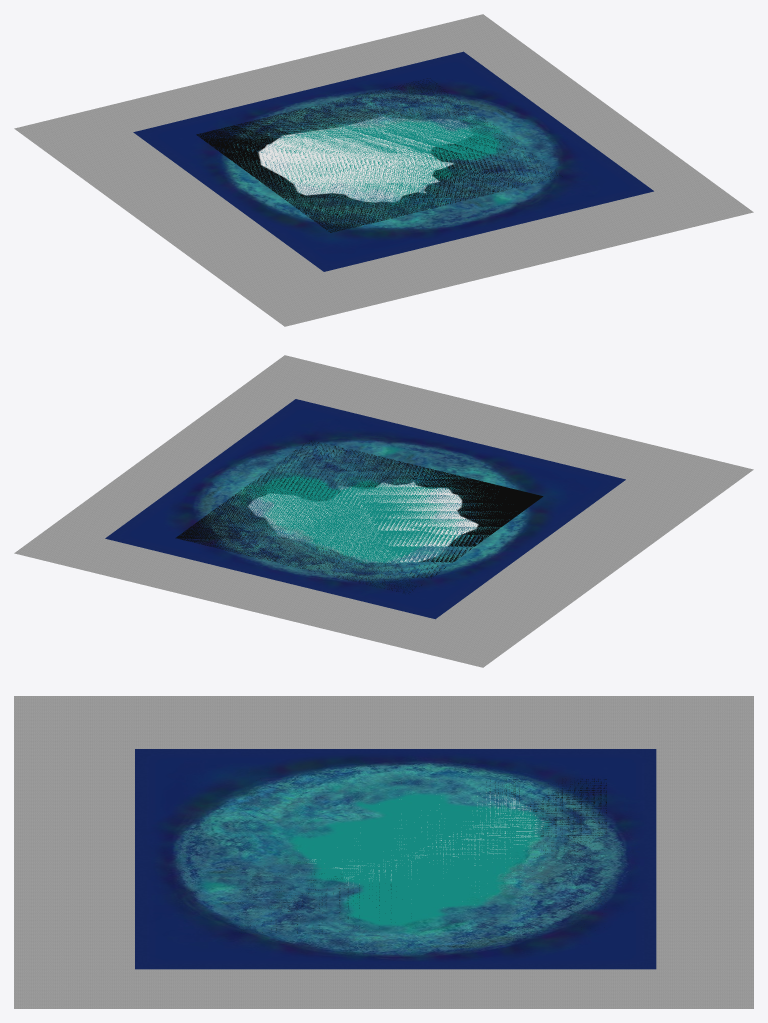
Rendered from pir_m_are_isl_cannon_ocean.fbx.
3 renders of one model, top to bottom at view 1: azimuth 30°, elevation 25°; view 2: azimuth 150°, elevation 25°; view 3: azimuth 270°, elevation 25°, orthographic. The views are drawn at different scales.
Parts seen in each view (by area): view 1: sandfloor, water_color, water_alpha; view 2: sandfloor, water_color, water_alpha; view 3: sandfloor, water_color, water_alpha.
Part boxes in pixels (<box>): sandfloor: <box>14,14,753,326</box>; water_color: <box>133,51,653,271</box>; water_alpha: <box>196,78,562,232</box>; sandfloor: <box>14,355,753,667</box>; water_color: <box>105,399,625,619</box>; water_alpha: <box>175,440,543,593</box>; sandfloor: <box>14,696,753,1008</box>; water_color: <box>135,749,656,969</box>; water_alpha: <box>239,778,606,933</box>.
Bounding box in the file's own units: 1626112 × 6894 × 1626111.
3 materials, 3 textured.
